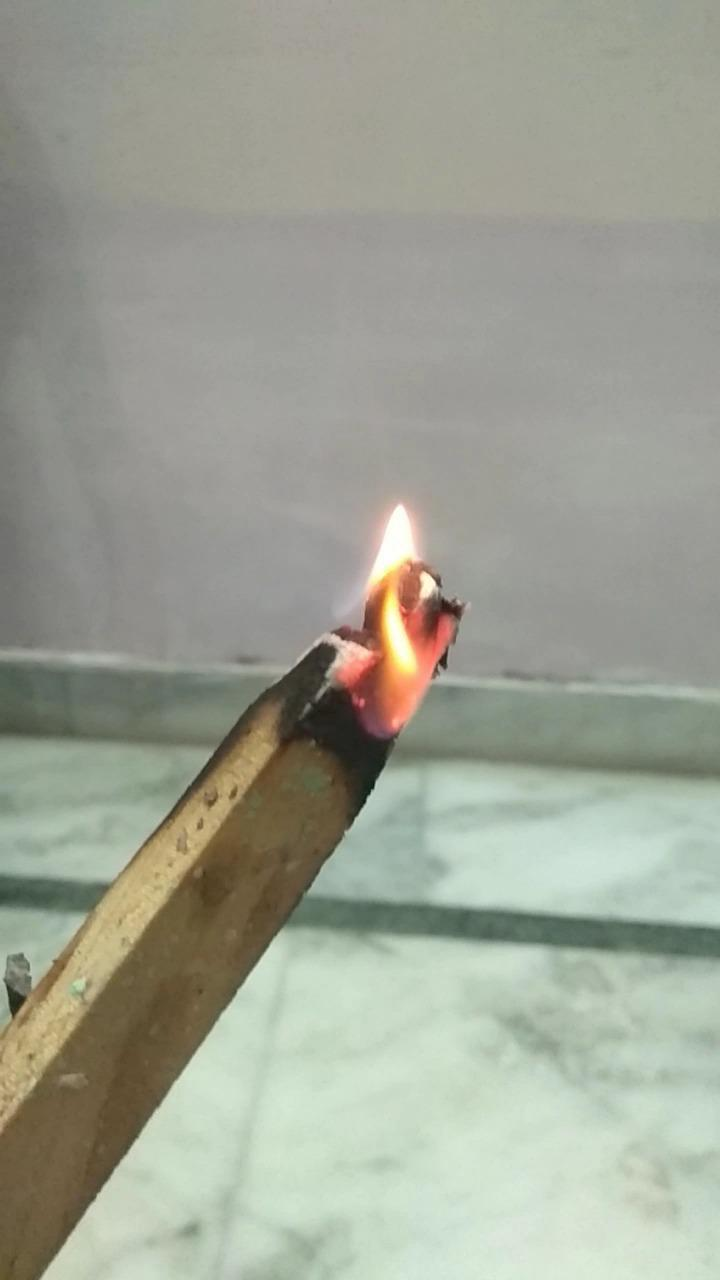fire: (310, 478, 470, 758)
